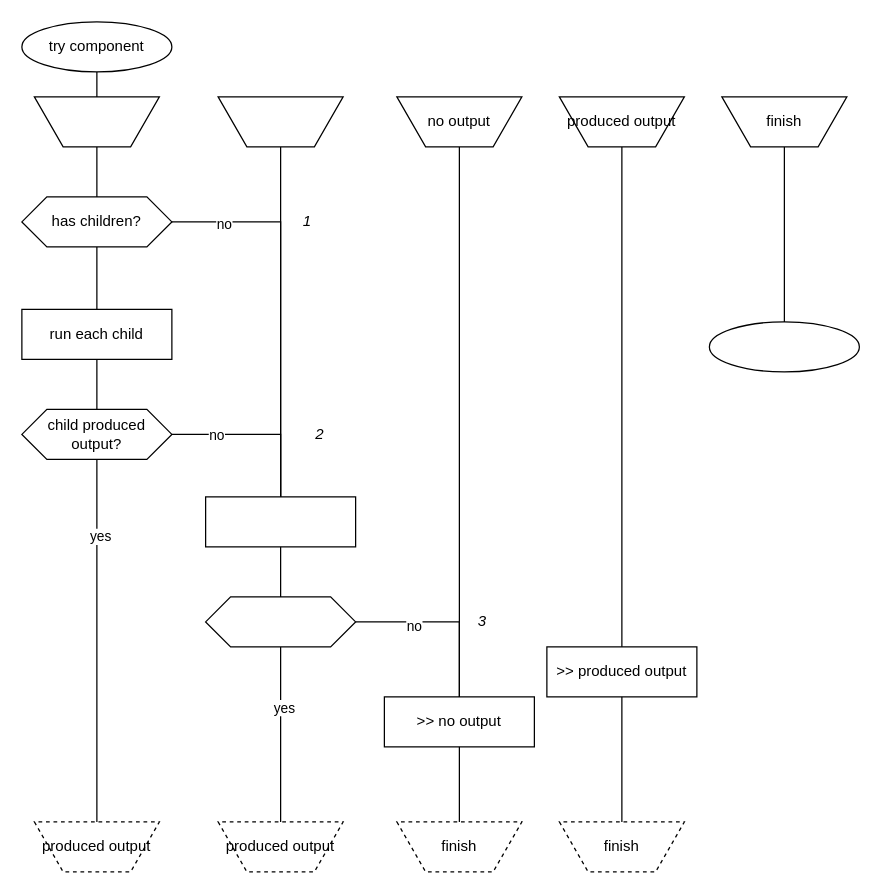
Some shapes in this 881 by 894 pixel diagram are drawn without their labels. The shapes that lost their labels are listed below. From the top down, each one's centre as x and y in pixels, then its label:
(x=96, y=121): main
(x=280, y=121): try self
(x=783, y=346): end
(x=280, y=521): run self
(x=280, y=621): self produced output?
